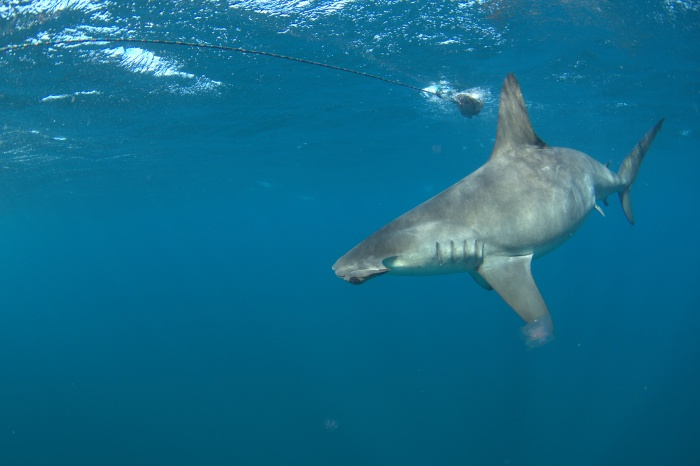Hammer: (303, 43, 673, 354)
